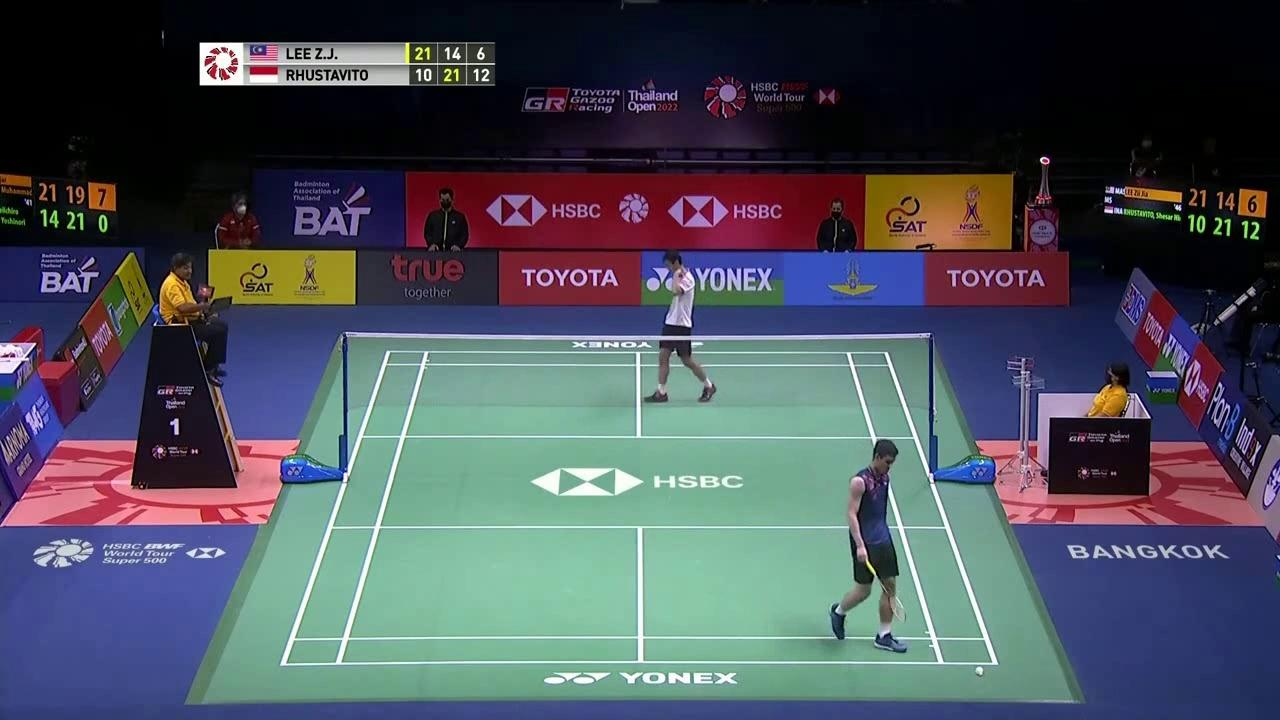racket: (860, 555, 910, 627), (665, 349, 685, 372)
shuttle: (974, 663, 986, 678)
